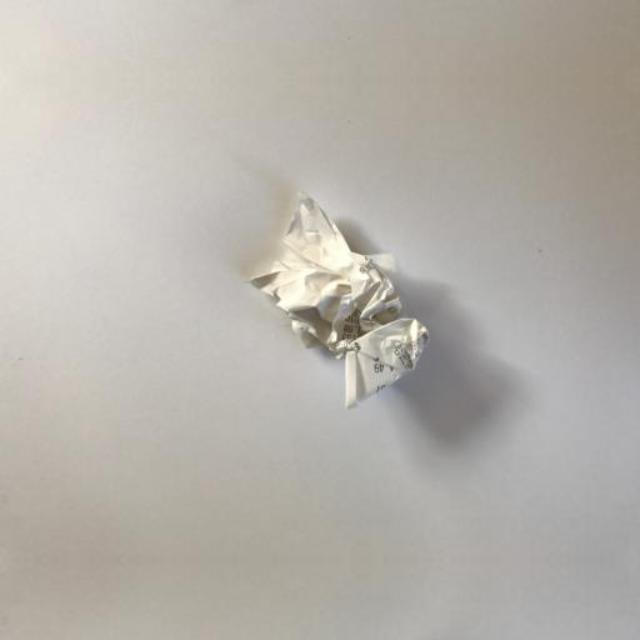paper: (168, 165, 468, 417)
